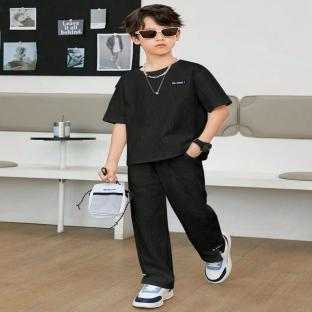Human: (98, 4, 231, 308)
